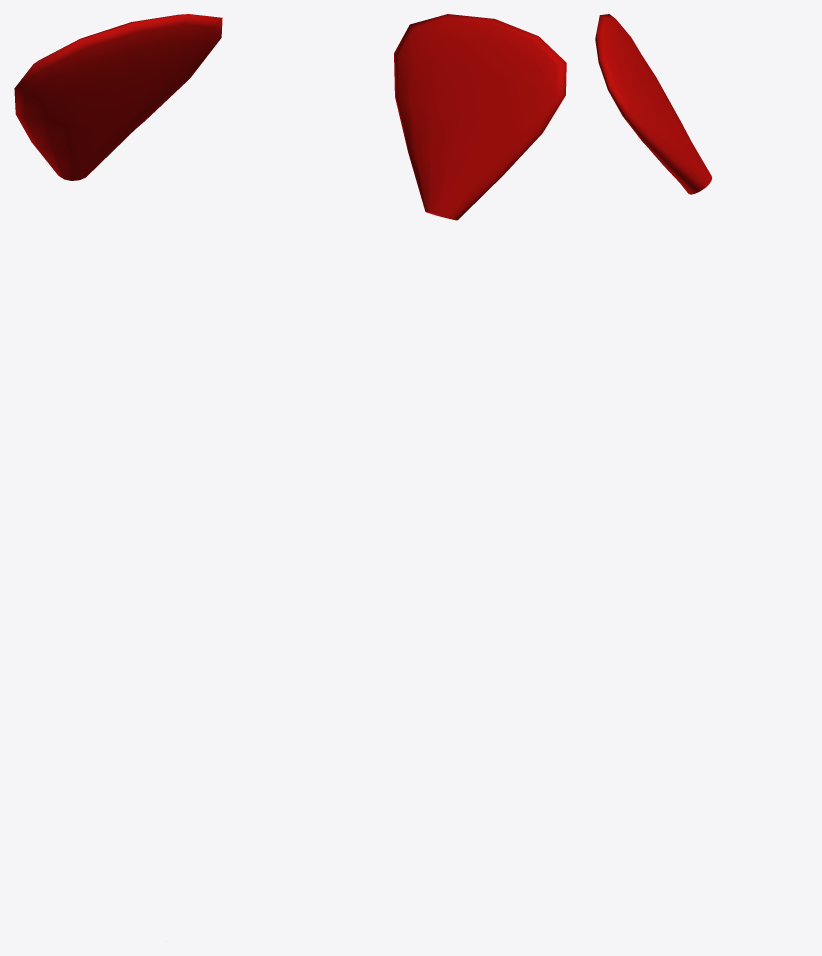
File: eyes_fish_blue.glb
3 views of the same model, side by side, from view 1: azimuth 30°, elevation 25°; view 2: azimuth 150°, elevation 25°; view 3: azimuth 270°, elevation 25° (orthographic). The views are drawn at different scales.
Parts seen in each view (by area): view 1: polySurface2.002; view 2: polySurface2.002; view 3: polySurface2.002.
Part boxes in pixels (box(x1,y1,x2,y2)): polySurface2.002: box(14, 14, 222, 180); polySurface2.002: box(394, 14, 566, 220); polySurface2.002: box(595, 14, 711, 194).
Size of the model in its own units: 75.15 by 285 by 64.91.
